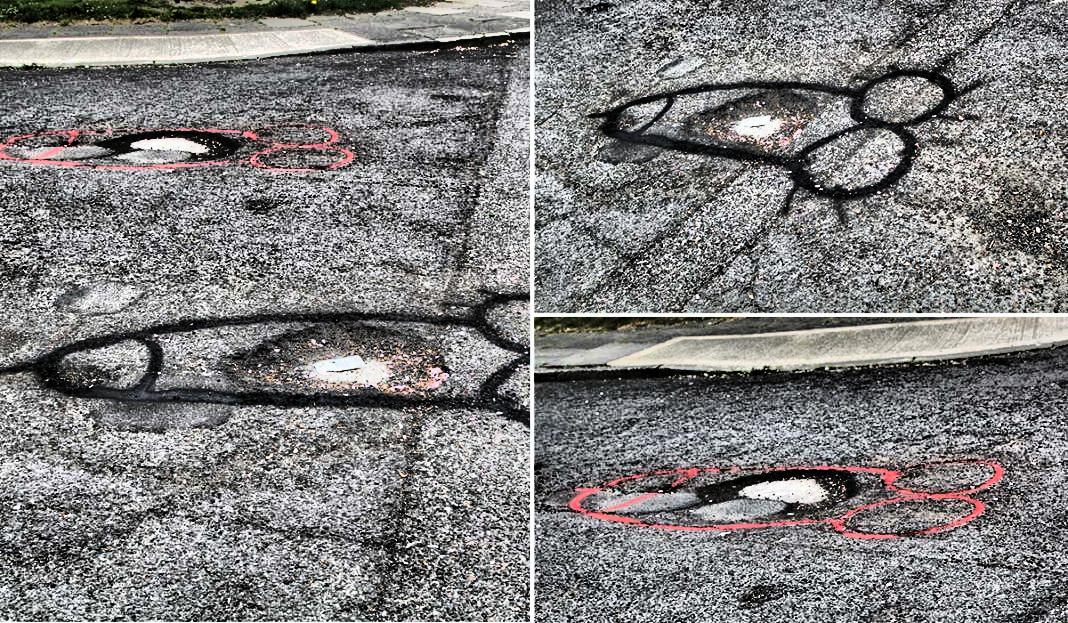pothole: (205, 322, 455, 407), (675, 86, 823, 158), (689, 464, 865, 517), (98, 127, 244, 165)
